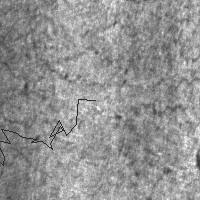crazing: (110, 99, 195, 190), (25, 52, 199, 92), (0, 99, 95, 171)
